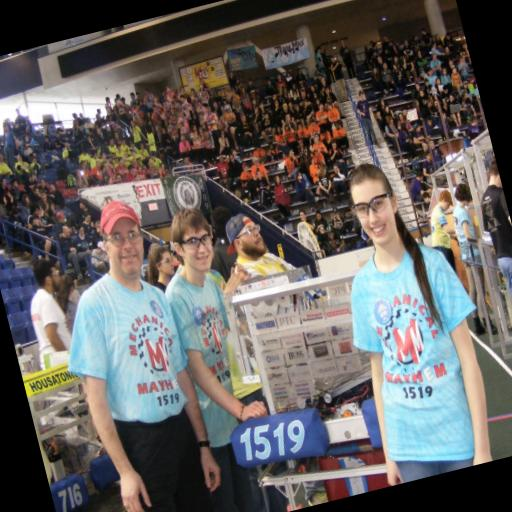robot: (180, 194, 466, 490), (19, 344, 131, 512)
